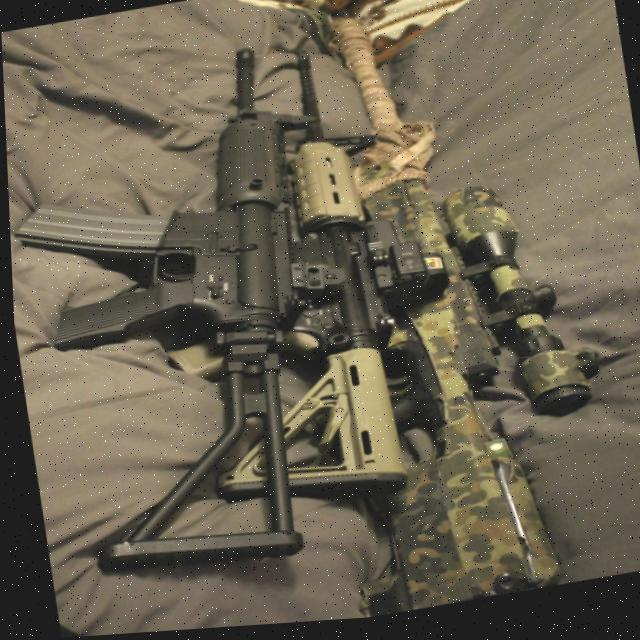firearm: (267, 0, 630, 626), (2, 36, 386, 599), (117, 32, 477, 537)
